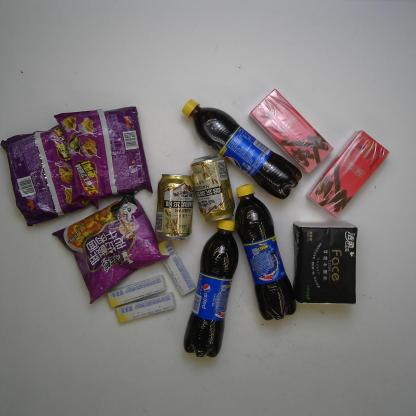Alcohol: (190, 151, 237, 223), (153, 172, 195, 239)
Candy: (156, 237, 196, 298), (115, 289, 176, 324), (104, 276, 166, 308)
Drink: (182, 98, 304, 200), (235, 183, 298, 319), (186, 219, 239, 358)
Instant Drink: (307, 128, 390, 218), (248, 87, 334, 172)
Instant Noodles: (52, 192, 169, 304), (53, 103, 154, 202), (1, 125, 100, 226)
Tissue: (292, 218, 357, 306)
